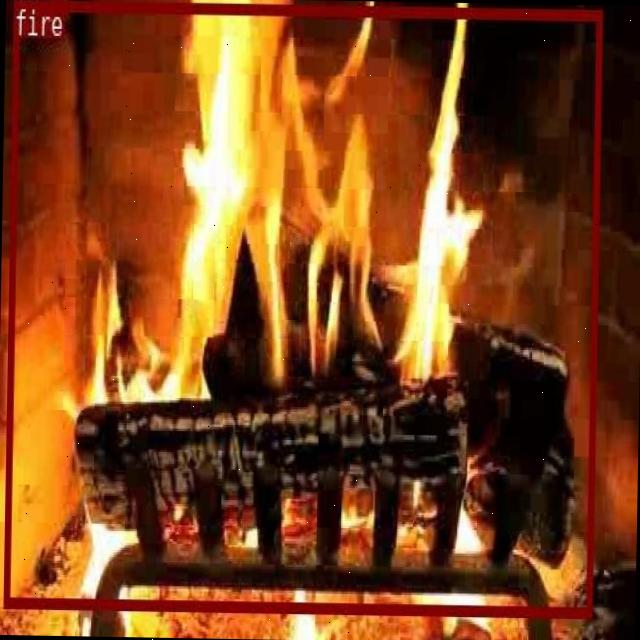fire: (1, 0, 601, 615)
